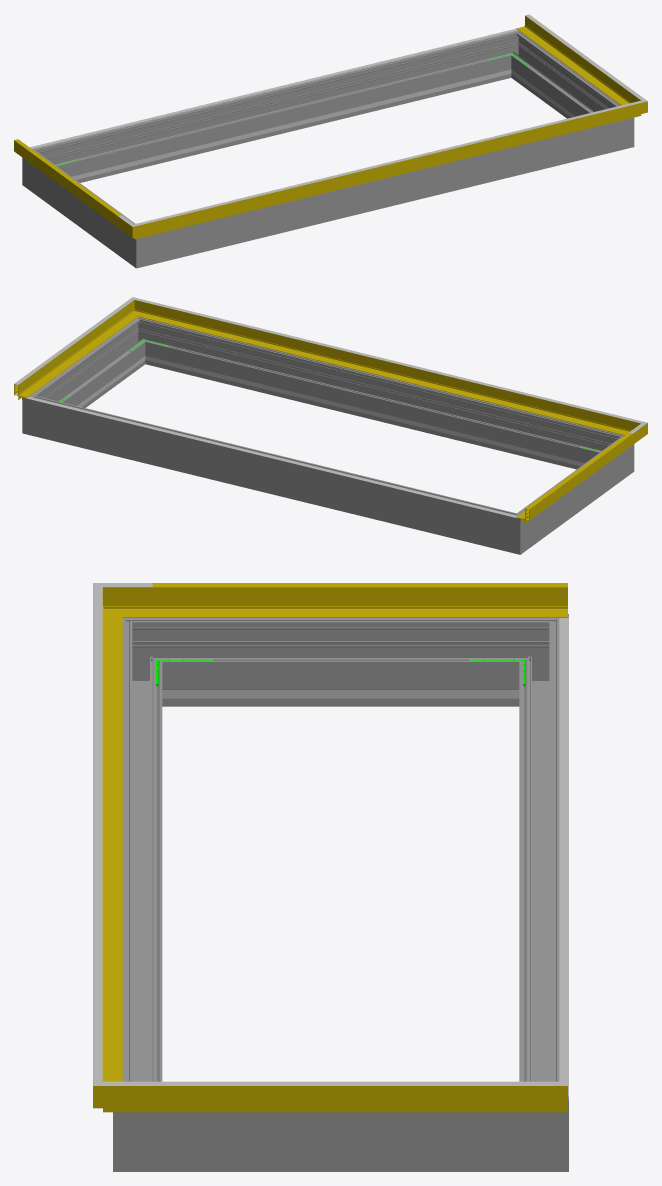
The picture shows the model from 3 angles, top to bottom: view 1: azimuth 30°, elevation 25°; view 2: azimuth 150°, elevation 25°; view 3: azimuth 270°, elevation 25°; orthographic projection. The views are drawn at different scales.
Visible parts, largest first — view 1: 3DGeom-276, 3DGeom-298, 3DGeom-56, 3DGeom-297, 3DGeom-268, 3DGeom-58, 3DGeom-244, 3DGeom-220, 3DGeom-66, 3DGeom-50, 3DGeom-270, 3DGeom-284 (+6 smaller); view 2: 3DGeom-298, 3DGeom-276, 3DGeom-56, 3DGeom-297, 3DGeom-268, 3DGeom-58, 3DGeom-239, 3DGeom-278, 3DGeom-220, 3DGeom-66, 3DGeom-50, 3DGeom-284 (+6 smaller); view 3: 3DGeom-268, 3DGeom-297, 3DGeom-276, 3DGeom-298, 3DGeom-50, 3DGeom-58, 3DGeom-56, 3DGeom-220, 3DGeom-66, 3DGeom-284, 3DGeom-290, 3DGeom-278 (+6 smaller).
Boxes of the visible parts, box(x1,y1,x2,y2) form: 3DGeom-276: box(50, 35, 506, 182); 3DGeom-298: box(162, 124, 608, 262); 3DGeom-56: box(156, 107, 622, 233); 3DGeom-297: box(513, 39, 614, 118); 3DGeom-268: box(37, 158, 129, 256); 3DGeom-58: box(516, 15, 628, 104); 3DGeom-244: box(81, 75, 486, 178); 3DGeom-220: box(30, 29, 518, 148); 3DGeom-66: box(156, 106, 621, 220); 3DGeom-50: box(14, 140, 117, 226); 3DGeom-270: box(121, 219, 161, 268); 3DGeom-284: box(497, 30, 530, 79); 3DGeom-298: box(149, 322, 606, 469); 3DGeom-276: box(48, 400, 499, 548); 3DGeom-56: box(151, 305, 619, 432); 3DGeom-297: box(41, 326, 142, 407); 3DGeom-268: box(527, 444, 619, 543); 3DGeom-58: box(14, 309, 130, 399); 3DGeom-239: box(170, 362, 575, 464); 3DGeom-278: box(494, 506, 535, 554); 3DGeom-220: box(27, 397, 517, 517); 3DGeom-66: box(156, 303, 621, 417); 3DGeom-50: box(516, 434, 632, 523); 3DGeom-284: box(22, 387, 52, 439); 3DGeom-268: box(172, 618, 509, 706); 3DGeom-297: box(172, 1112, 509, 1171); 3DGeom-276: box(519, 639, 559, 1081); 3DGeom-298: box(122, 639, 162, 1081); 3DGeom-50: box(152, 587, 567, 617); 3DGeom-58: box(152, 1086, 567, 1112); 3DGeom-56: box(93, 608, 122, 1081); 3DGeom-220: box(559, 617, 568, 1096); 3DGeom-66: box(93, 608, 102, 1060); 3DGeom-284: box(509, 1075, 568, 1171); 3DGeom-290: box(113, 1075, 172, 1171); 3DGeom-278: box(509, 614, 568, 706).
Bounding box in the file's own units: 3.05 × 0.2669 × 1.22.
